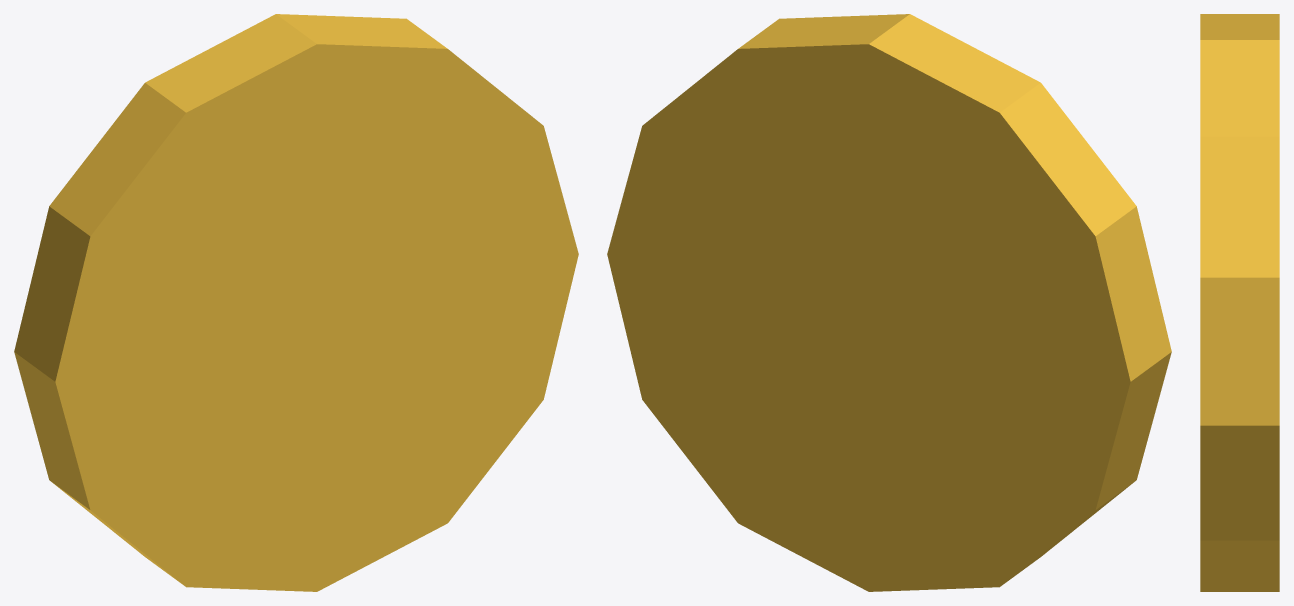
The model's file is prim_coin.fbx.
3 views of the same model, side by side, from view 1: azimuth 30°, elevation 25°; view 2: azimuth 150°, elevation 25°; view 3: azimuth 270°, elevation 25° (orthographic). The views are drawn at different scales.
Parts seen in each view (by area): view 1: Coin; view 2: Coin; view 3: Coin.
Part boxes in pixels (box(x1,y1,x2,y2)): Coin: box(14, 14, 578, 591); Coin: box(607, 14, 1171, 591); Coin: box(1200, 14, 1279, 591).
Bounding box in the file's own units: 0.44 × 0.44 × 0.06.
